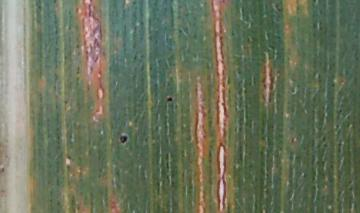tarspot: (118, 130, 131, 147), (164, 92, 174, 106)
